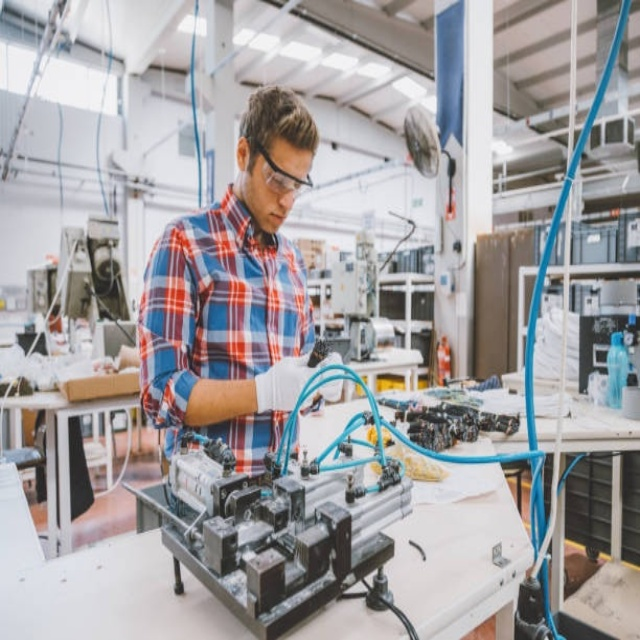Gafas: (250, 137, 314, 201)
Guantes: (255, 355, 339, 414)
Sin_mascara: (262, 200, 289, 235)
